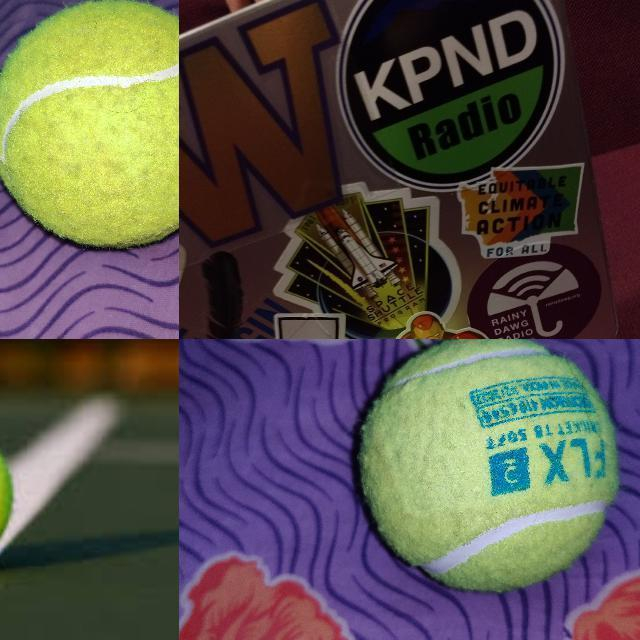tennis-ball: (357, 339, 619, 596), (0, 0, 178, 249)
